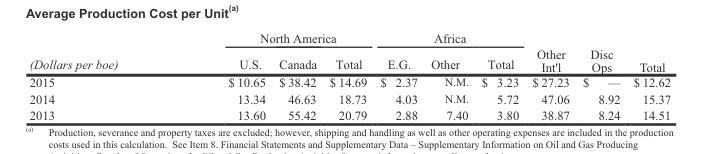table: (28, 29, 670, 122)
table column: (28, 29, 172, 122), (172, 29, 271, 122), (271, 29, 322, 122), (372, 29, 423, 122), (423, 29, 474, 122), (524, 29, 575, 122), (575, 29, 626, 122), (322, 29, 372, 122), (474, 29, 524, 122), (626, 29, 670, 122)
table column header: (28, 29, 670, 74)
table row: (28, 50, 670, 74), (28, 29, 670, 50), (28, 89, 670, 106), (28, 106, 670, 122), (28, 74, 670, 89)
table spanning cell: (28, 29, 172, 74), (172, 29, 372, 50), (372, 29, 524, 50), (524, 29, 575, 74), (575, 29, 626, 74), (626, 29, 670, 74)
